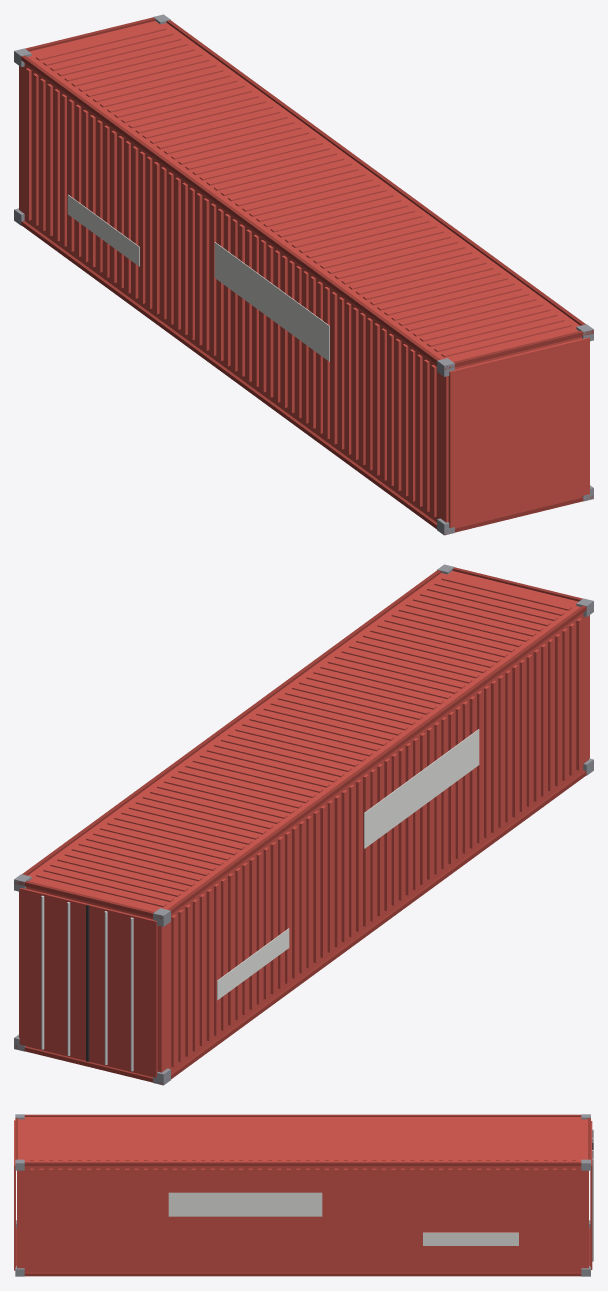
Rendered from container_red.glb.
The picture shows the model from 3 angles, top to bottom: view 1: azimuth 30°, elevation 25°; view 2: azimuth 150°, elevation 25°; view 3: azimuth 270°, elevation 25°; orthographic projection. The views are drawn at different scales.
Visible parts, largest first — view 1: container_red; view 2: container_red; view 3: container_red.
Boxes of the visible parts, x1,y1,x2,y2 form: container_red: (14,14,593,535); container_red: (14,564,593,1085); container_red: (14,1114,593,1276).
Size of the model in its own units: 2.41 by 2.61 by 12.09.
